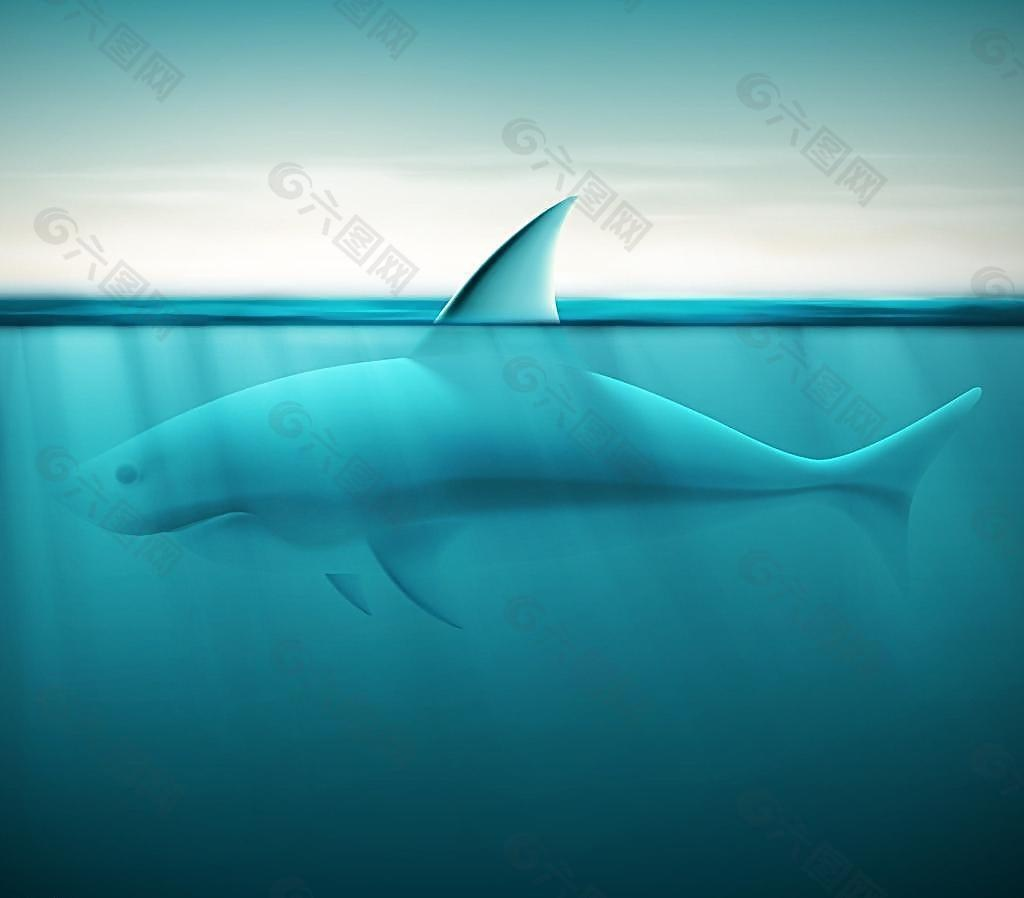fish: (59, 193, 975, 636)
